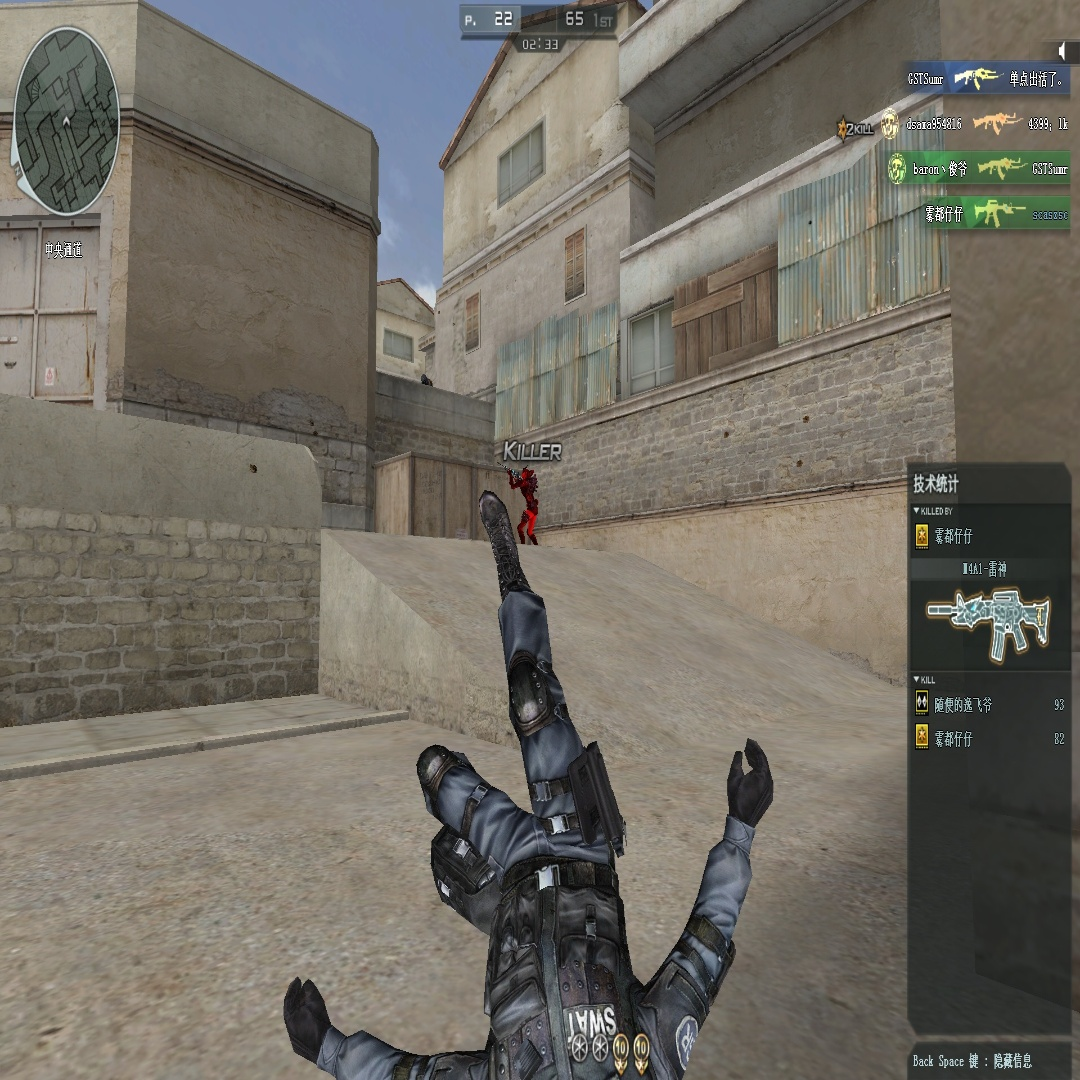p: (511, 464, 541, 546)
